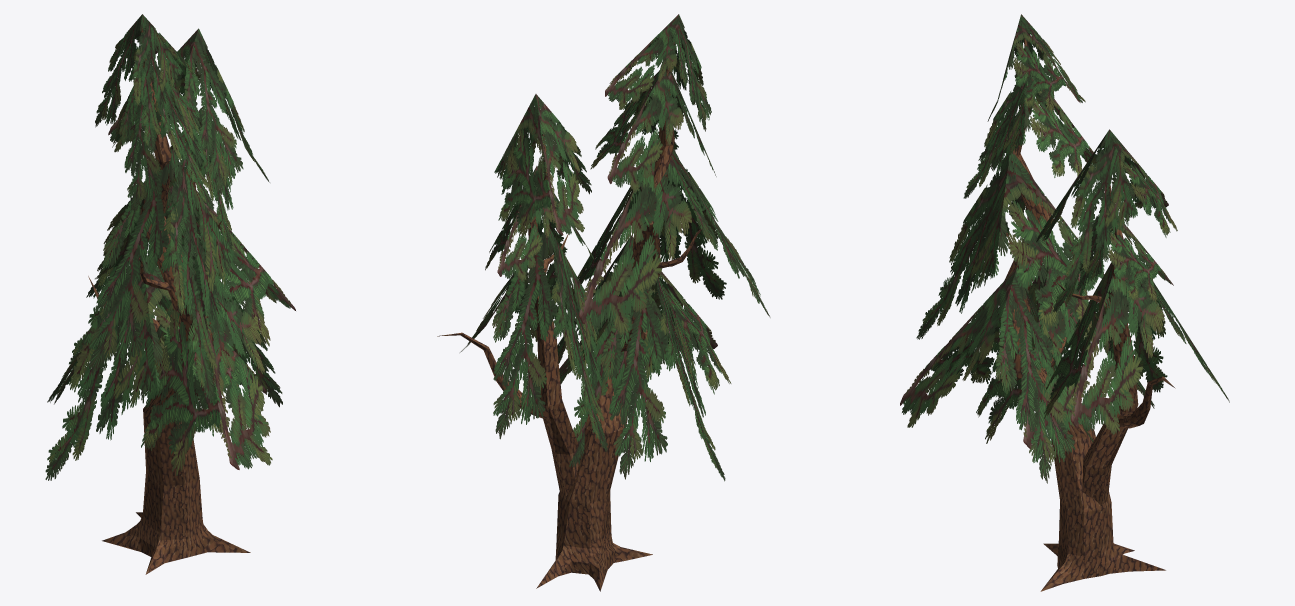
The model's file is Pine_medium03.fbx.
3 views of the same model, side by side, from view 1: azimuth 30°, elevation 25°; view 2: azimuth 150°, elevation 25°; view 3: azimuth 270°, elevation 25° (orthographic). The views are drawn at different scales.
Visible parts, largest first — view 1: Pine_Medium03; view 2: Pine_Medium03; view 3: Pine_Medium03.
Part boxes in pixels (x1,y1,x2,y2): Pine_Medium03: [45, 14, 295, 574]; Pine_Medium03: [437, 14, 770, 591]; Pine_Medium03: [900, 14, 1229, 591].
Size of the model in its own units: 10.42 by 15.41 by 11.48.
Materials: 2 (2 with a texture image).
